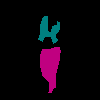giacca: (38, 16, 60, 44)
pantaloni: (39, 46, 60, 92)
